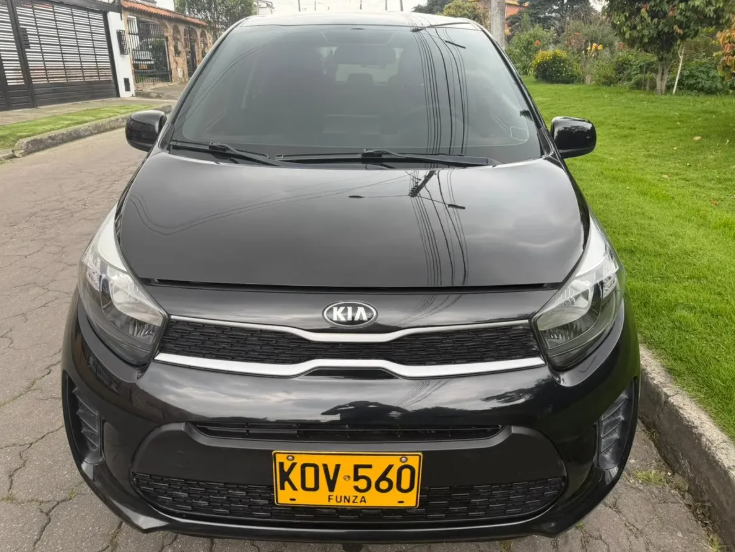placa: (272, 451, 420, 509)
